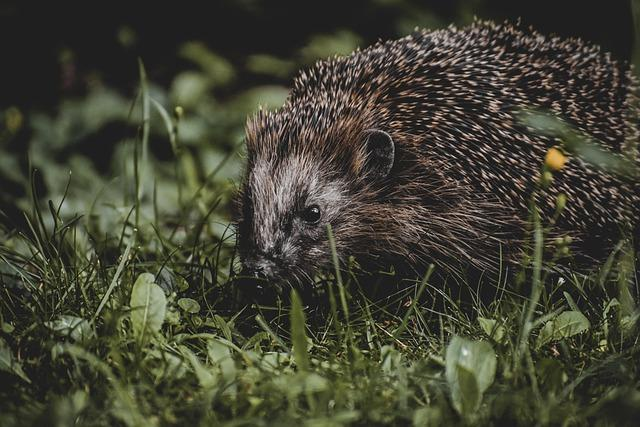Non_Gorille: (171, 13, 610, 361)
